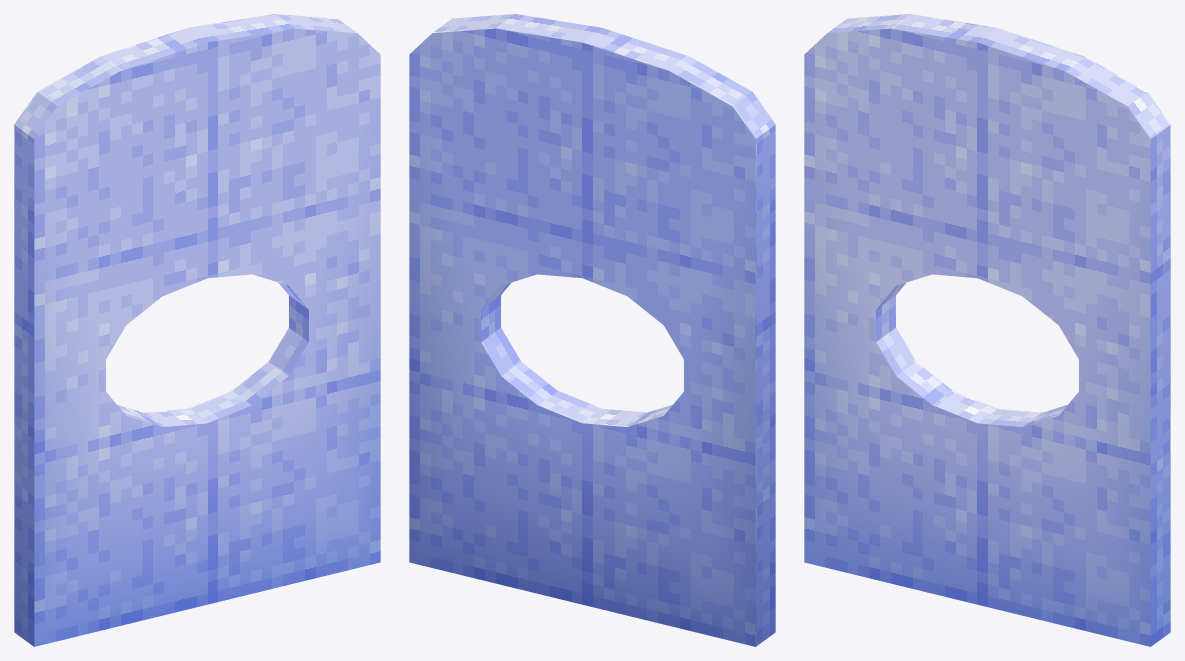
Rendered from arch.wall_module.glb.
The picture shows the model from 3 angles, left to right: view 1: azimuth 30°, elevation 25°; view 2: azimuth 150°, elevation 25°; view 3: azimuth 330°, elevation 25°; orthographic projection.
Visible parts, largest first — view 1: kit_wall; view 2: kit_wall; view 3: kit_wall.
Boxes of the visible parts, x1,y1,x2,y2 form: kit_wall: [14, 14, 380, 646]; kit_wall: [409, 14, 775, 646]; kit_wall: [804, 14, 1170, 646].
Bounding box in the file's own units: 2 × 3.1 × 0.2.
Materials: 1 (1 with a texture image).
